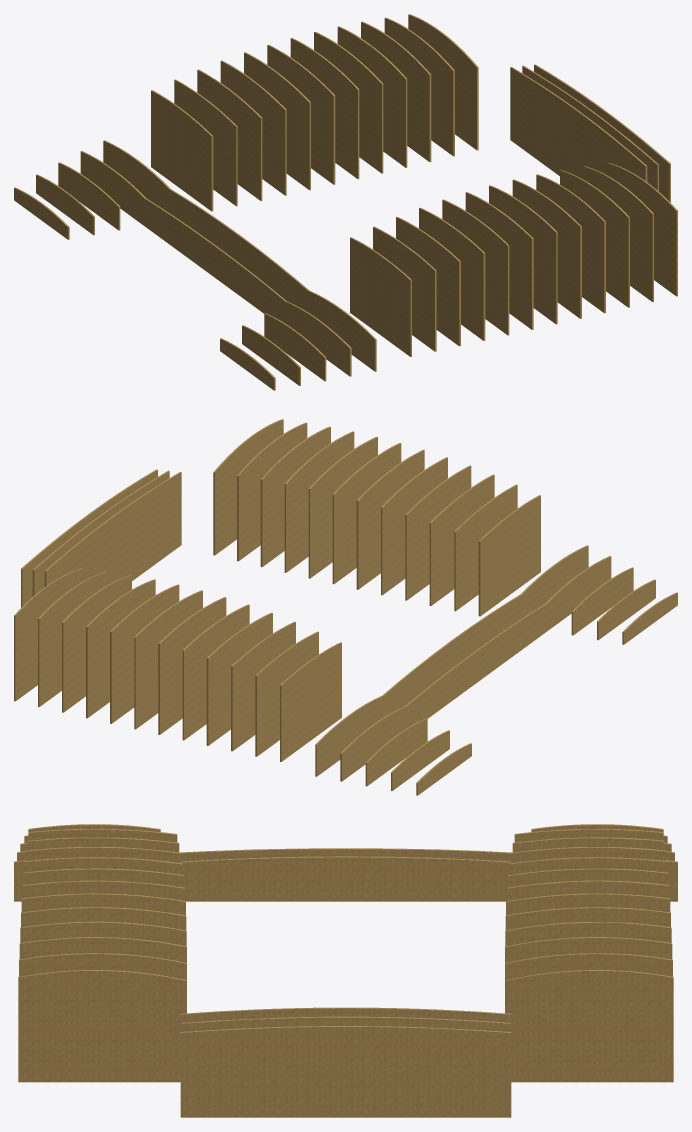
Rendered from DECK JIG__TRANSV FRAMES.glb.
3 renders of one model, top to bottom at view 1: azimuth 30°, elevation 25°; view 2: azimuth 150°, elevation 25°; view 3: azimuth 270°, elevation 25°, orthographic. The views are drawn at different scales.
Bounding box in the file's own units: 5.89 × 1.18 × 6.04.
1 material, 1 textured.
